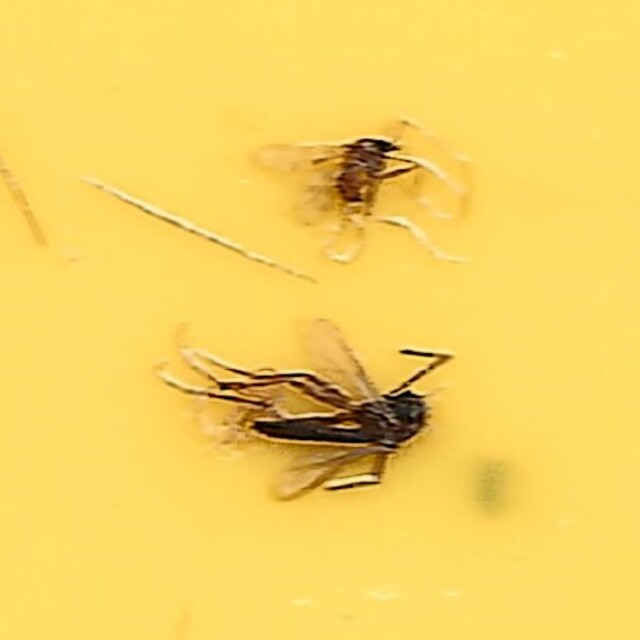Nematocera: (165, 325, 475, 508), (269, 132, 424, 231)
